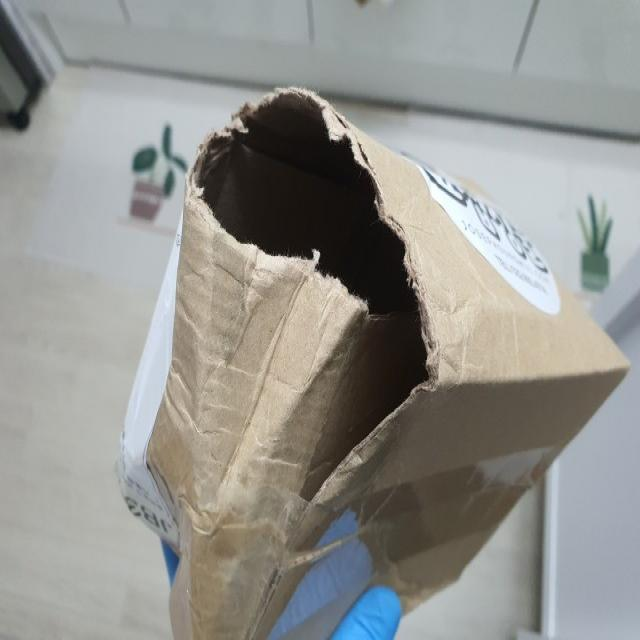hole: (189, 84, 432, 407)
